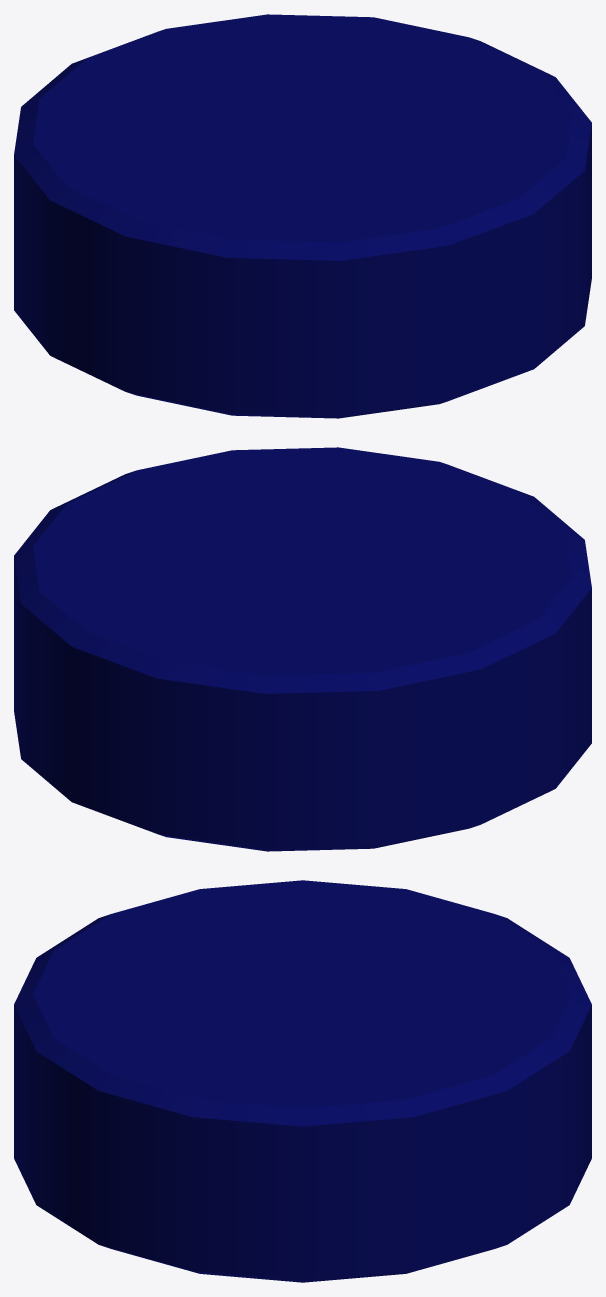
Rendered from Waster.fbx.
The picture shows the model from 3 angles, top to bottom: view 1: azimuth 30°, elevation 25°; view 2: azimuth 150°, elevation 25°; view 3: azimuth 270°, elevation 25°; orthographic projection.
Parts seen in each view (by area): view 1: washer; view 2: washer; view 3: washer.
Part boxes in pixels (x1,y1,x2,y2): washer: [14, 14, 591, 418]; washer: [14, 447, 591, 851]; washer: [14, 880, 591, 1282].
Bounding box in the file's own units: 0.8663 × 0.288 × 0.8663.
